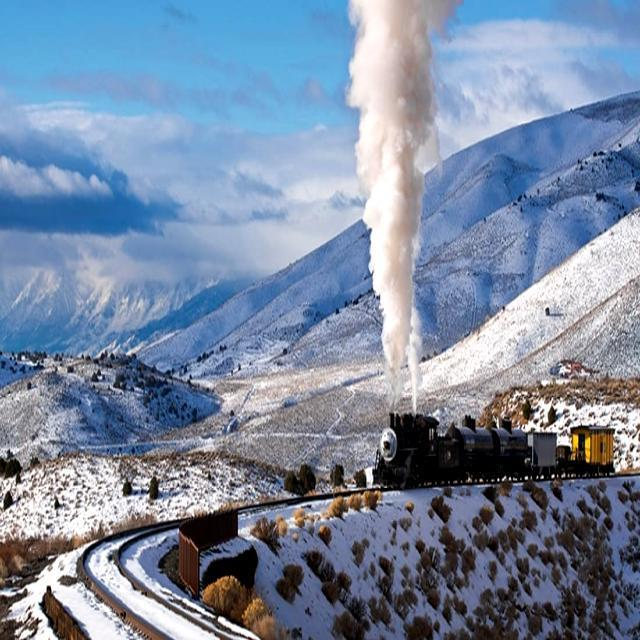Smoke: (343, 0, 453, 379)
